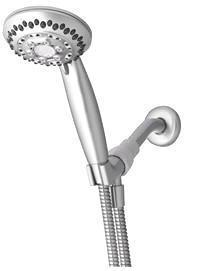Ducha: (0, 0, 187, 270)
